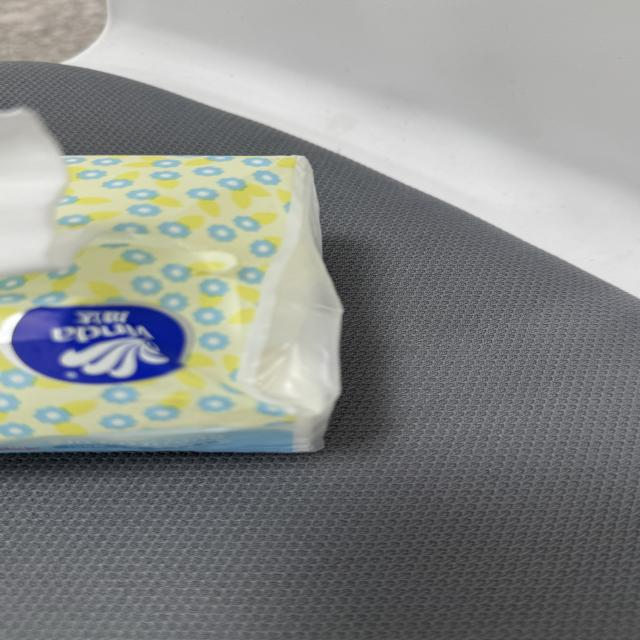tissue: (0, 145, 341, 451)
